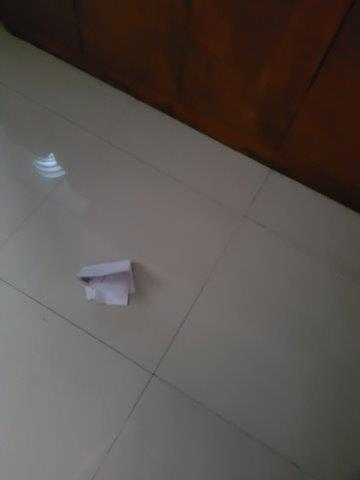kertas: (77, 257, 137, 309)
